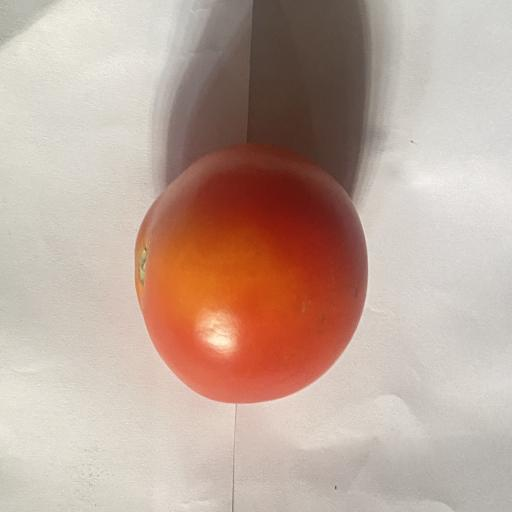ripe: (135, 144, 367, 403)
